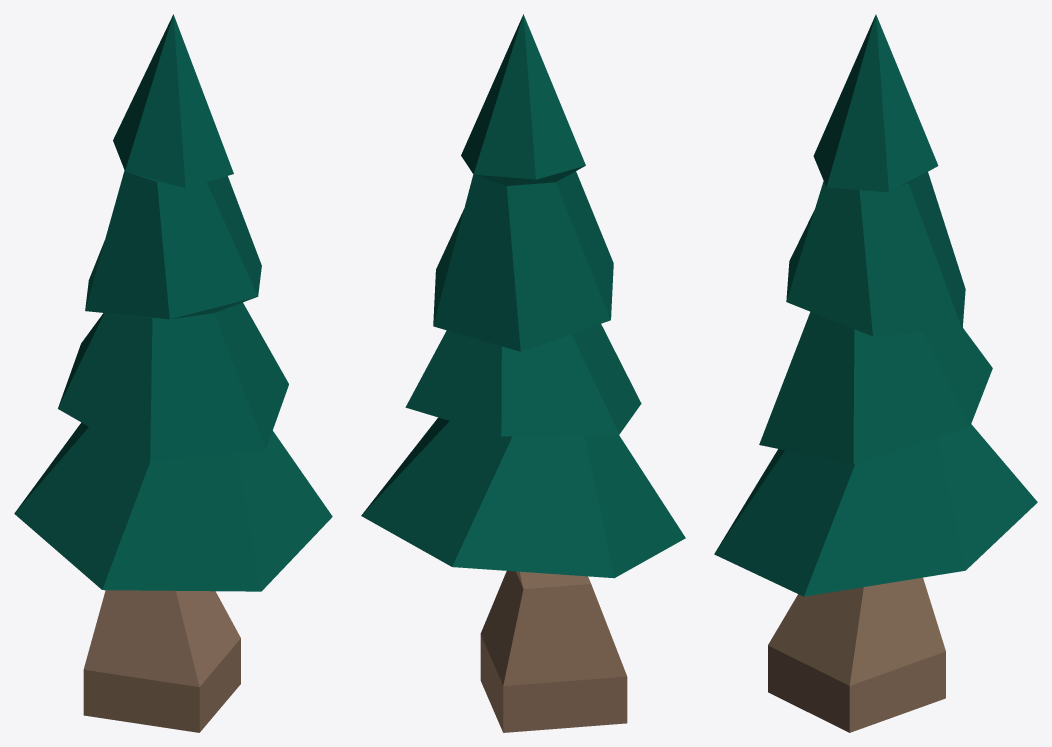
Rendered from Pine_01_Mesh.fbx.
3 views of the same model, side by side, from view 1: azimuth 30°, elevation 25°; view 2: azimuth 150°, elevation 25°; view 3: azimuth 270°, elevation 25° (orthographic). The views are drawn at different scales.
Parts seen in each view (by area): view 1: Pine.001_LOD0; view 2: Pine.001_LOD0; view 3: Pine.001_LOD0.
Part boxes in pixels (x1,y1,x2,y2): Pine.001_LOD0: (14,14,332,732); Pine.001_LOD0: (361,14,685,732); Pine.001_LOD0: (714,14,1037,732).
Size of what is drawn, in the model's own units: 13702 by 35535 by 15084.
